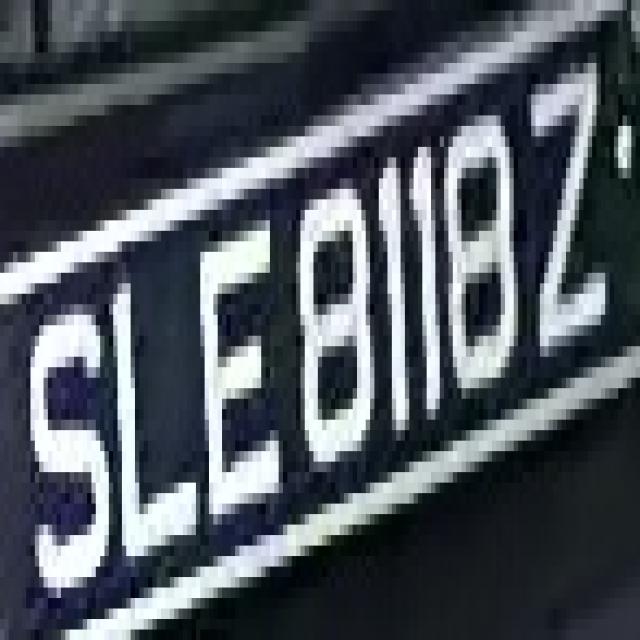1: (401, 105, 448, 472), (366, 126, 414, 430)
8: (436, 116, 522, 440), (283, 157, 370, 462)
E: (192, 220, 292, 546)
L: (109, 242, 204, 566)
S: (26, 283, 118, 640)
Z: (505, 52, 614, 398)
